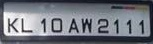character: (20, 17, 33, 33), (81, 16, 92, 34), (7, 17, 19, 33), (50, 17, 62, 32), (97, 18, 109, 33), (68, 18, 79, 33), (126, 19, 133, 35), (40, 17, 46, 33), (113, 19, 119, 35), (138, 19, 144, 34)
